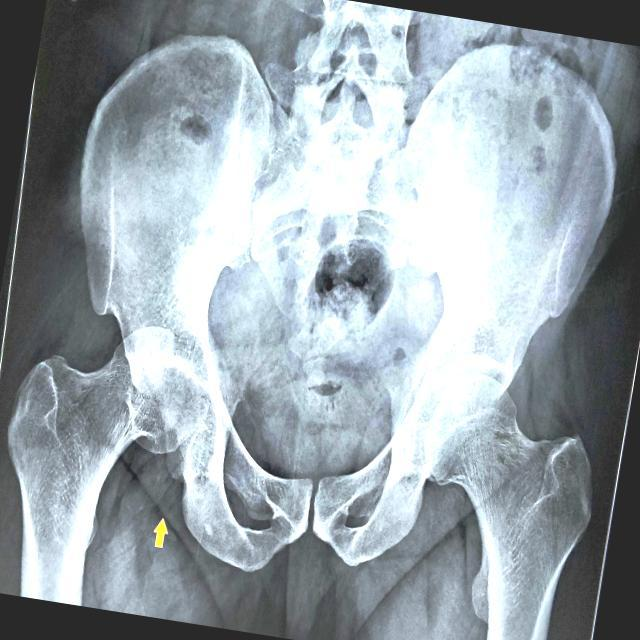Fracture Dislocation: (111, 378, 168, 442)
